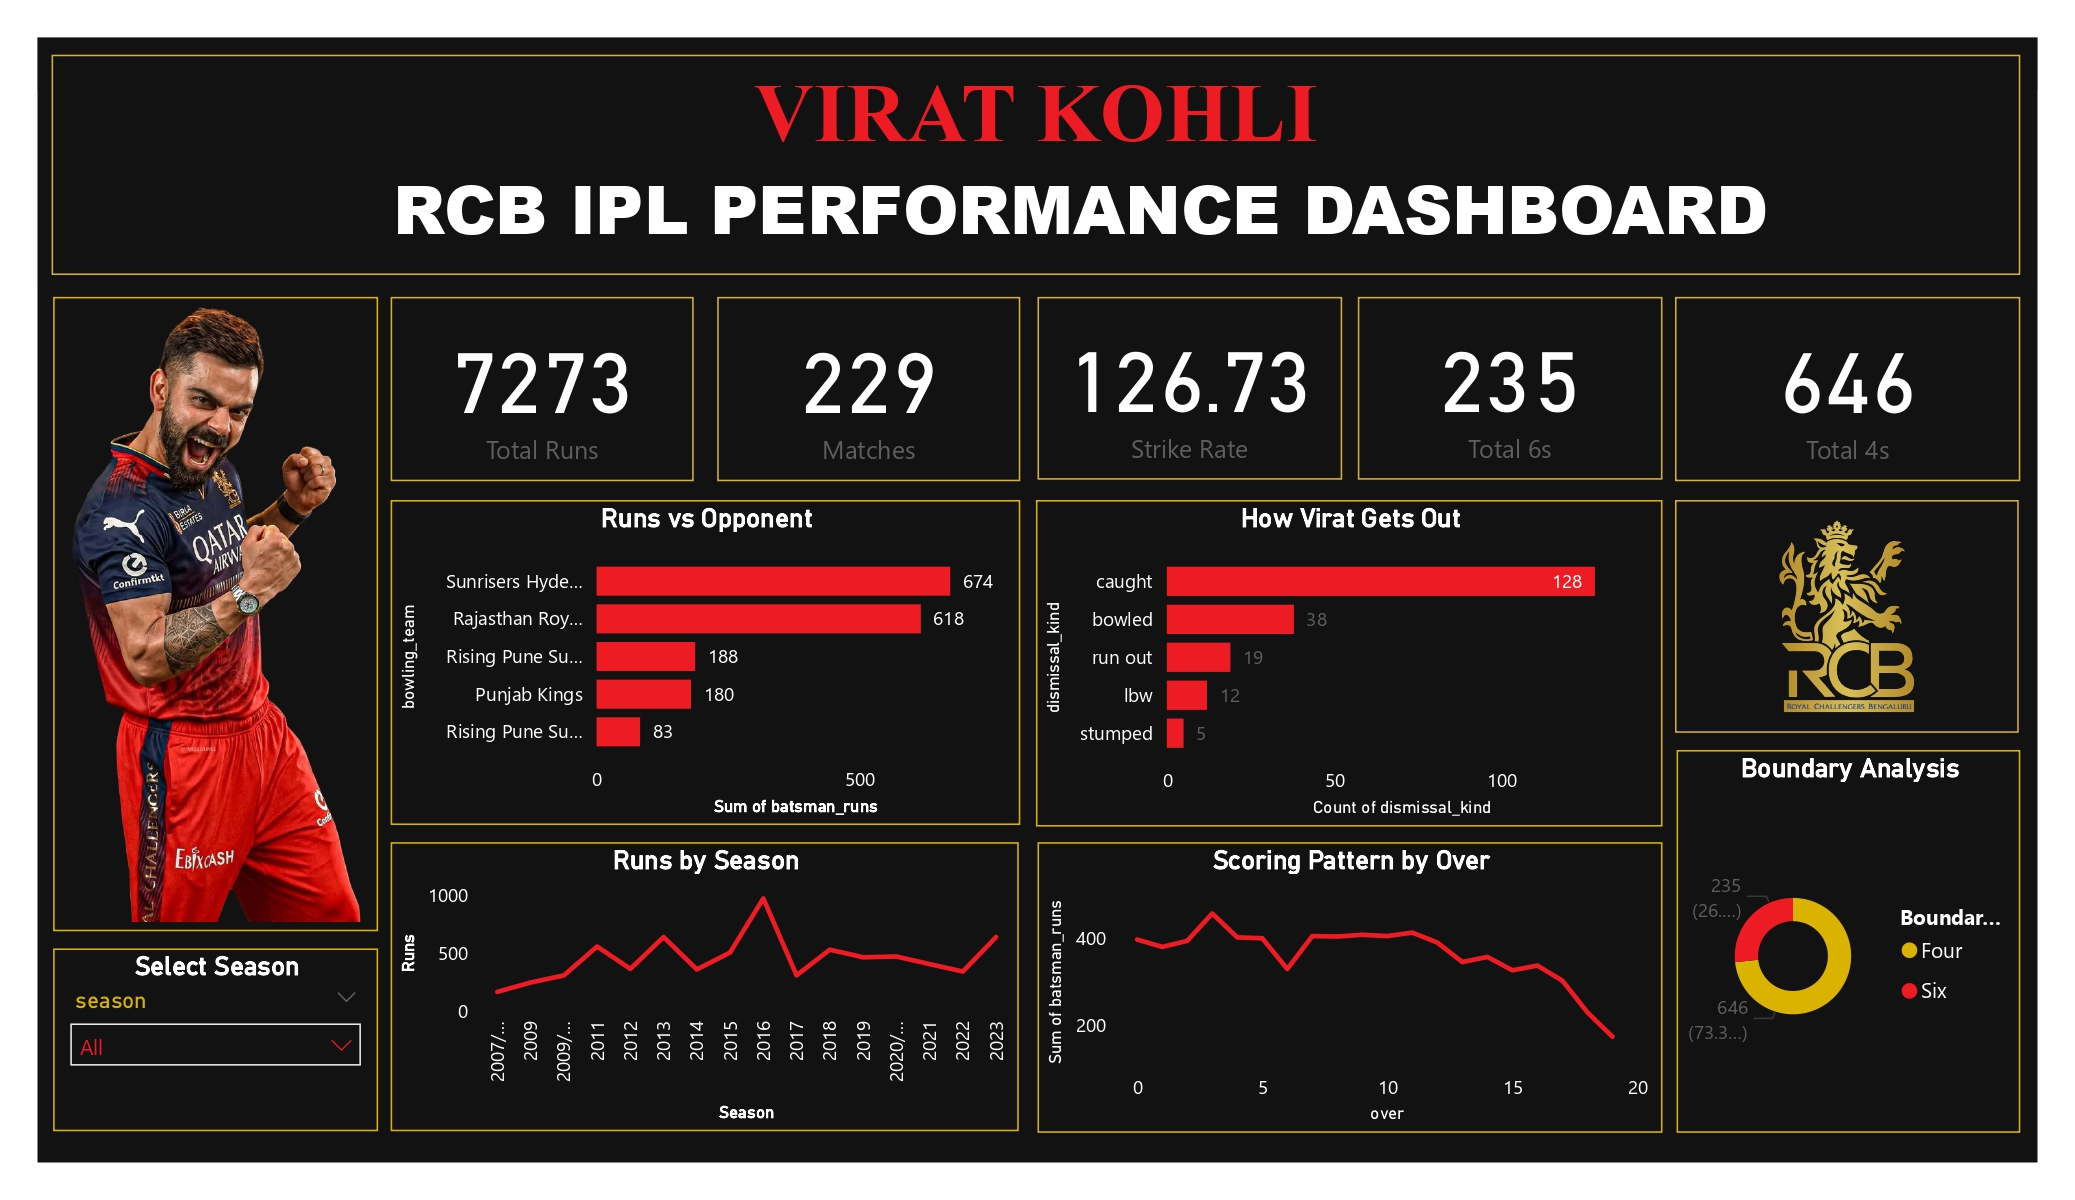

This screenshot's page, from the dashboard's own definition file:
{"tool":"powerbi","page":{"name":"Page 1","canvas":[1280,720],"ordinal":0},"visuals":[{"type":"textbox","box":[9.3,11.4,1260.1,140.9],"z":0},{"type":"card","fields":{"Values":["virat_rcb_cleaned.Total Runs"]},"box":[226,166,194.2,117.7],"z":1000},{"type":"card","fields":{"Values":["virat_rcb_cleaned.Matches"]},"box":[434.5,166.1,194.8,118.3],"z":2000},{"type":"card","fields":{"Values":["virat_rcb_cleaned.Strike Rate"]},"box":[640.5,166.1,194.8,116.9],"z":3000},{"type":"card","fields":{"Values":["virat_rcb_cleaned.Total 100s"]},"box":[1048.4,166,220.9,118],"z":4000},{"type":"card","fields":{"Values":["virat_rcb_cleaned.Total 6s"]},"box":[845.3,166,194.9,116.6],"z":5000},{"type":"lineChart","title":"Runs by Season","fields":{"Category":["virat_rcb_cleaned.season"],"Y":["virat_rcb_cleaned.Season Runs"]},"box":[226.4,514.6,402.1,185.2],"z":6000},{"type":"clusteredBarChart","title":"Runs vs Opponent","fields":{"Y":["Sum(virat_rcb_cleaned.batsman_runs)"],"Category":["virat_rcb_cleaned.bowling_team"]},"box":[226.3,296.2,402.4,208],"z":7000},{"type":"donutChart","title":"Boundary Analysis","fields":{"Category":["virat_rcb_cleaned.Boundary Type"],"Y":["CountNonNull(virat_rcb_cleaned.batsman_runs)"]},"box":[1048.7,456,220.7,244.6],"z":8000},{"type":"image","box":[1048.4,296.4,219.6,148.2],"z":9000},{"type":"barChart","title":"How Virat Gets Out","fields":{"Category":["virat_rcb_cleaned.dismissal_kind"],"Y":["CountNonNull(virat_rcb_cleaned.dismissal_kind)"]},"box":[639.4,296.4,401,208.3],"z":10000},{"type":"lineChart","title":"Scoring Pattern by Over","fields":{"Y":["Sum(virat_rcb_cleaned.batsman_runs)"],"Category":["virat_rcb_cleaned.over"]},"box":[640.4,515,400,185.5],"z":11000},{"type":"slicer","title":"Select Season","fields":{"Values":["virat_rcb_cleaned.season"]},"box":[9.6,583.2,208.6,116.6],"z":12000},{"type":"image","box":[9.6,166,208.6,406.2],"z":13000}]}

Visuals, with their boxes on the page's 1280x720 design canvas (x1, y1, x2, y2). These are canvas units, not pixel positions in the 2075x1200 screenshot, which may show the page scaled, cropped or inside an application window:
textbox: bbox(9, 11, 1269, 152)
card - virat_rcb_cleaned.Total Runs: bbox(226, 166, 420, 284)
card - virat_rcb_cleaned.Matches: bbox(434, 166, 629, 284)
card - virat_rcb_cleaned.Strike Rate: bbox(640, 166, 835, 283)
card - virat_rcb_cleaned.Total 100s: bbox(1048, 166, 1269, 284)
card - virat_rcb_cleaned.Total 6s: bbox(845, 166, 1040, 283)
"Runs by Season" lineChart: bbox(226, 515, 628, 700)
"Runs vs Opponent" clusteredBarChart: bbox(226, 296, 629, 504)
"Boundary Analysis" donutChart: bbox(1049, 456, 1269, 701)
image: bbox(1048, 296, 1268, 445)
"How Virat Gets Out" barChart: bbox(639, 296, 1040, 505)
"Scoring Pattern by Over" lineChart: bbox(640, 515, 1040, 700)
"Select Season" slicer: bbox(10, 583, 218, 700)
image: bbox(10, 166, 218, 572)
